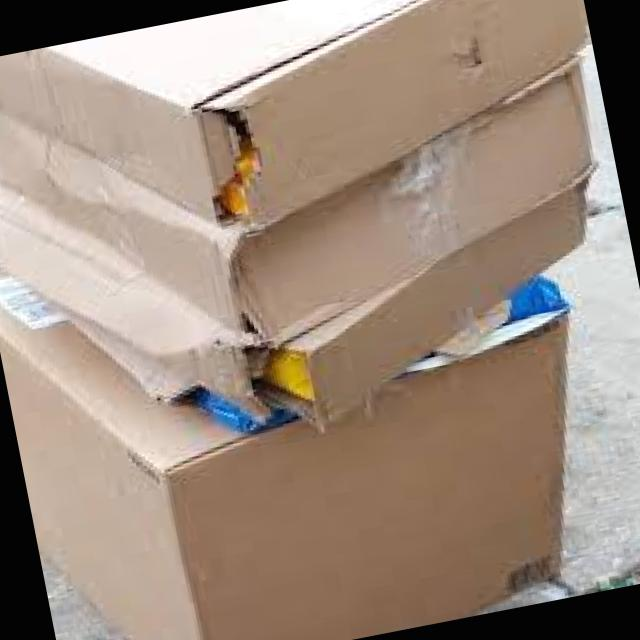package_damage: (96, 44, 402, 467)
